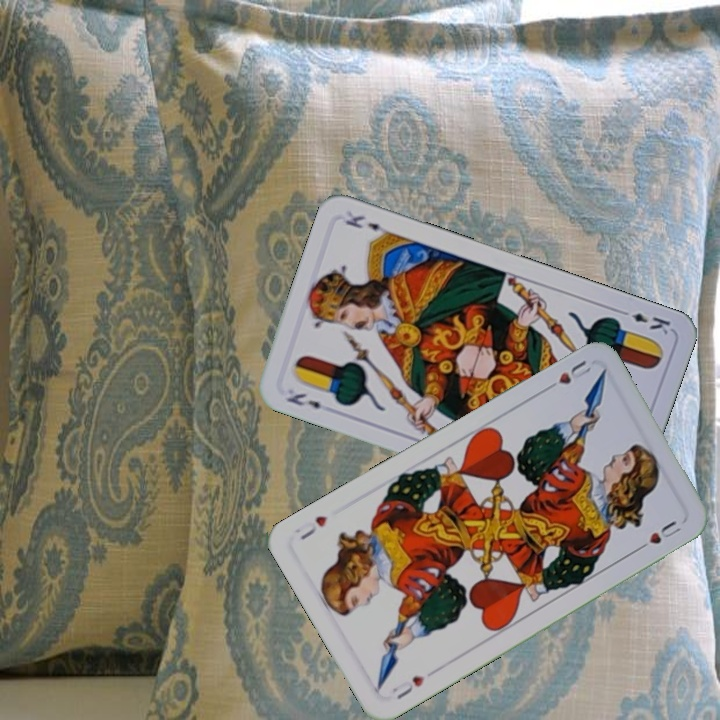EK: (615, 305, 673, 337), (282, 389, 323, 412)
HU: (540, 356, 595, 394), (387, 671, 428, 702)
